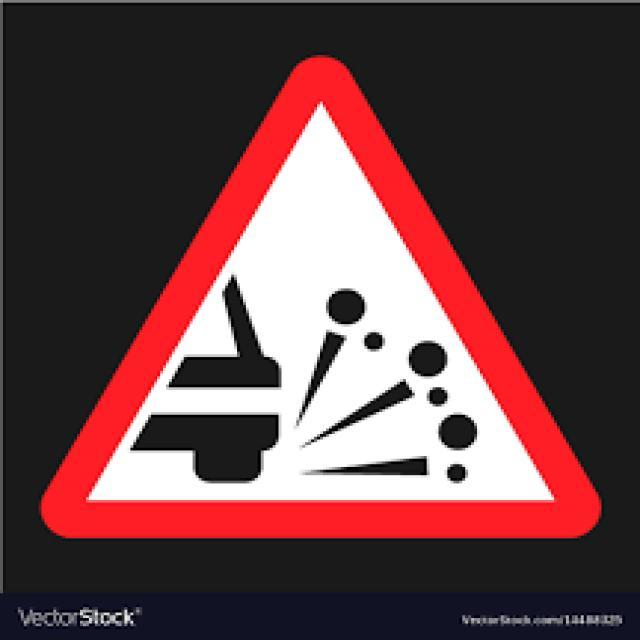loose gravel: (40, 55, 599, 537)
